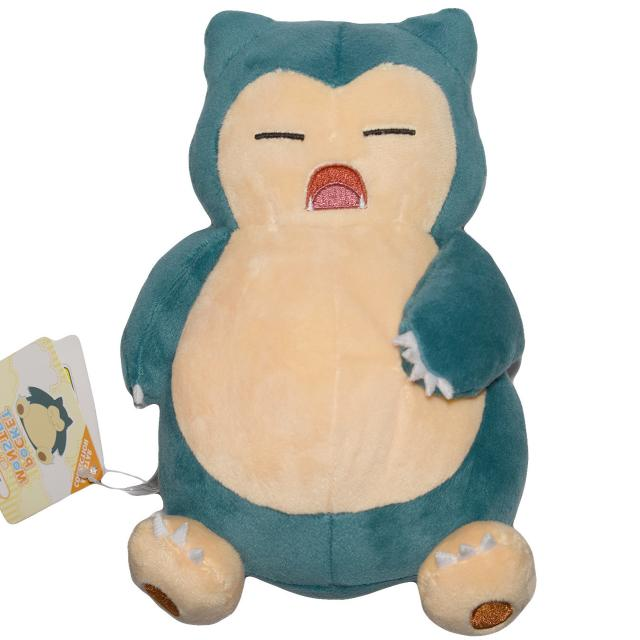Snorlax: (102, 0, 539, 626)
